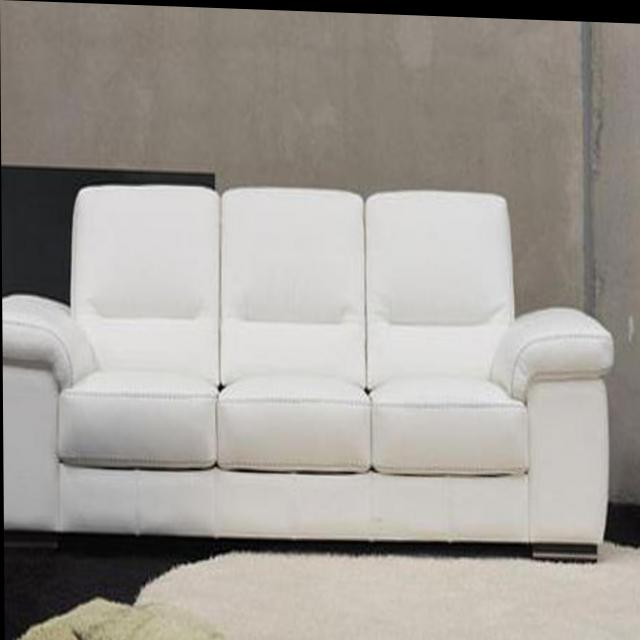Sofa: (1, 171, 613, 559)
